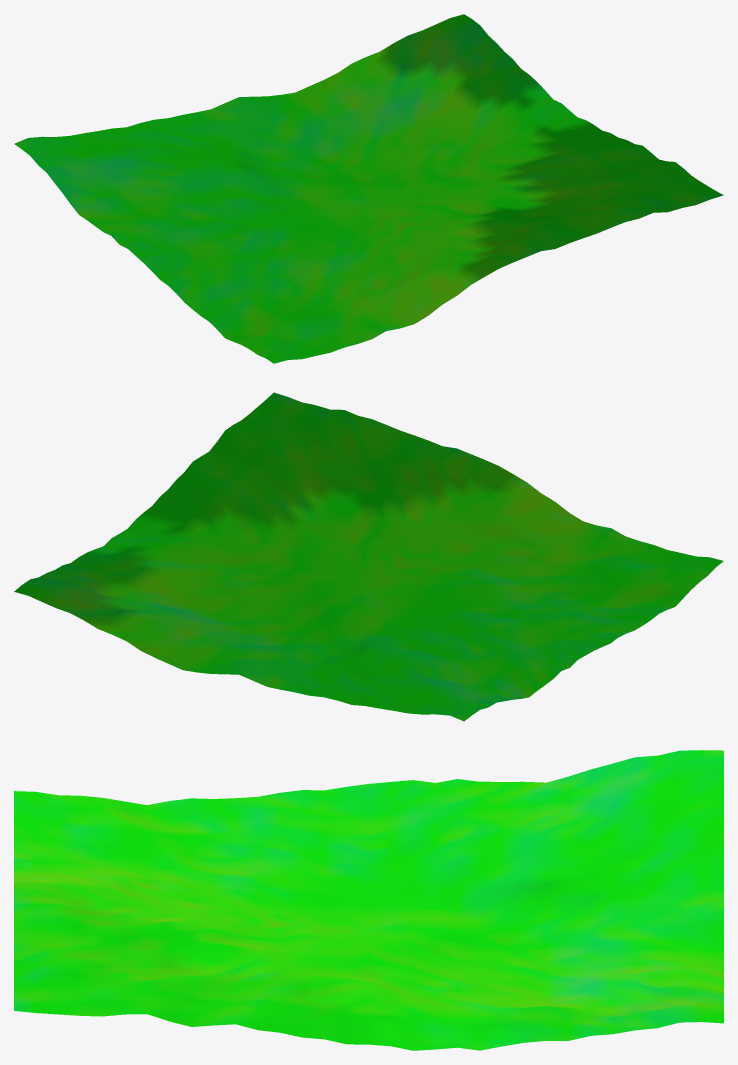
The picture shows the model from 3 angles, top to bottom: view 1: azimuth 30°, elevation 25°; view 2: azimuth 150°, elevation 25°; view 3: azimuth 270°, elevation 25°; orthographic projection. The views are drawn at different scales.
Parts seen in each view (by area): view 1: Terrain; view 2: Terrain; view 3: Terrain.
Part boxes in pixels (x1,y1,x2,y2): Terrain: (14, 14, 723, 363); Terrain: (14, 392, 723, 721); Terrain: (14, 750, 723, 1050).
Size of the model in its own units: 64 by 9.49 by 64.
